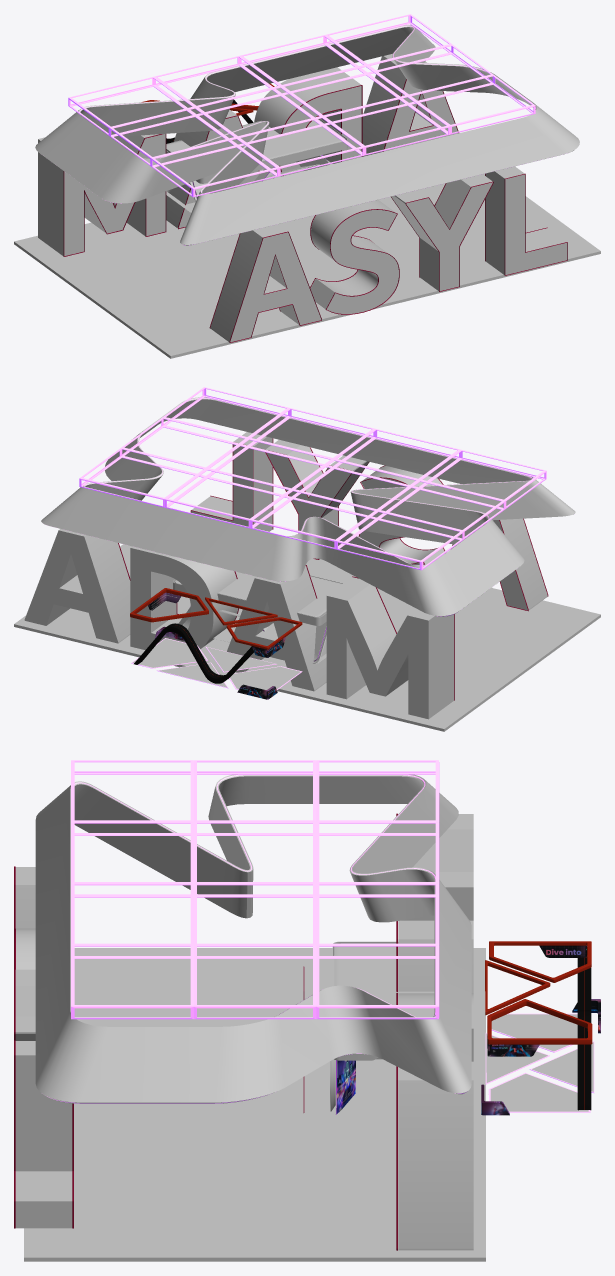
File: Pavilion_Asyl_Adam3.fbx
3 renders of one model, top to bottom at view 1: azimuth 30°, elevation 25°; view 2: azimuth 150°, elevation 25°; view 3: azimuth 270°, elevation 25°, orthographic. The views are drawn at different scales.
Parts seen in each view (by area): view 1: Куб.054, Куб.053, Text, Text.002, Куб.055, Text.001, Куб.050, Text.005, Куб.003, Text.003; view 2: Куб.054, Text.002, Куб.053, Куб.055, Text, Cube.001, Куб.050, Cube.009, Cube.005, Text.003, Cube.004, Куб.003 (+1 smaller); view 3: Куб.053, Куб.054, Text.002, Куб.055, Text, Cube.001, Куб.050, Куб, Cube.009, Cube.005, Cube.004, Куб.002 (+3 smaller).
Part boxes in pixels (box(x1,y1,x2,y2)): Куб.054: box(35, 25, 579, 245); Куб.053: box(14, 174, 600, 358); Text: box(210, 166, 566, 342); Text.002: box(38, 53, 458, 256); Куб.055: box(68, 14, 535, 197); Text.001: box(229, 173, 567, 342); Куб.050: box(166, 119, 345, 161); Text.005: box(63, 79, 458, 256); Куб.003: box(166, 118, 347, 183); Text.003: box(209, 173, 547, 328); Куб.054: box(41, 397, 575, 616); Text.002: box(24, 529, 454, 719); Куб.053: box(14, 544, 600, 731); Куб.055: box(79, 387, 546, 570); Text: box(191, 432, 547, 610); Cube.001: box(131, 638, 302, 689); Куб.050: box(175, 571, 341, 617); Cube.009: box(134, 623, 253, 683); Cube.005: box(130, 588, 208, 622); Text.003: box(190, 444, 528, 611); Cube.004: box(226, 617, 302, 649); Куб.003: box(173, 575, 342, 625); Куб.053: box(24, 948, 485, 1261); Куб.054: box(35, 774, 471, 1103); Text.002: box(398, 814, 473, 1250); Куб.055: box(71, 760, 439, 1019); Text: box(15, 867, 72, 1228); Cube.001: box(485, 1013, 594, 1112); Куб.050: box(334, 943, 434, 1059); Куб: box(334, 1059, 398, 1115); Cube.009: box(577, 957, 591, 1110); Cube.005: box(487, 999, 592, 1044); Cube.004: box(489, 941, 591, 982); Куб.002: box(335, 1060, 355, 1114).
Size of the model in its own units: 36186 by 11975 by 28999.
